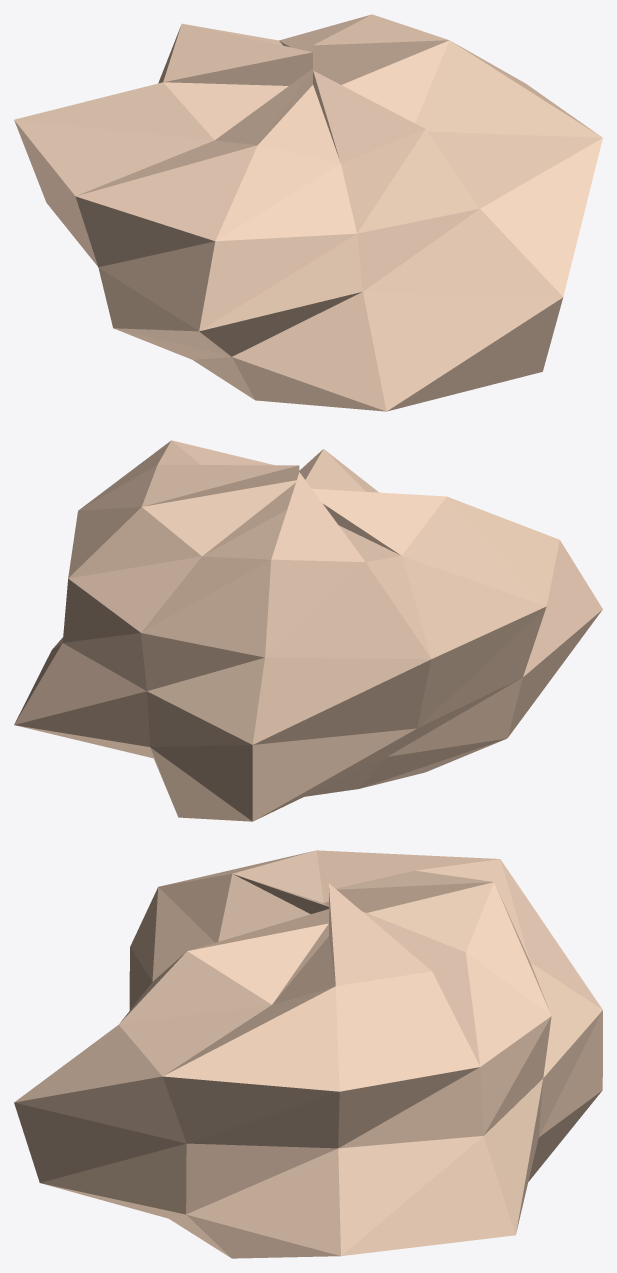
Rendered from rock_094.obj.
The picture shows the model from 3 angles, top to bottom: view 1: azimuth 30°, elevation 25°; view 2: azimuth 150°, elevation 25°; view 3: azimuth 270°, elevation 25°; orthographic projection. The views are drawn at different scales.
Size of the model in its own units: 0.826 by 0.518 by 0.8355.
